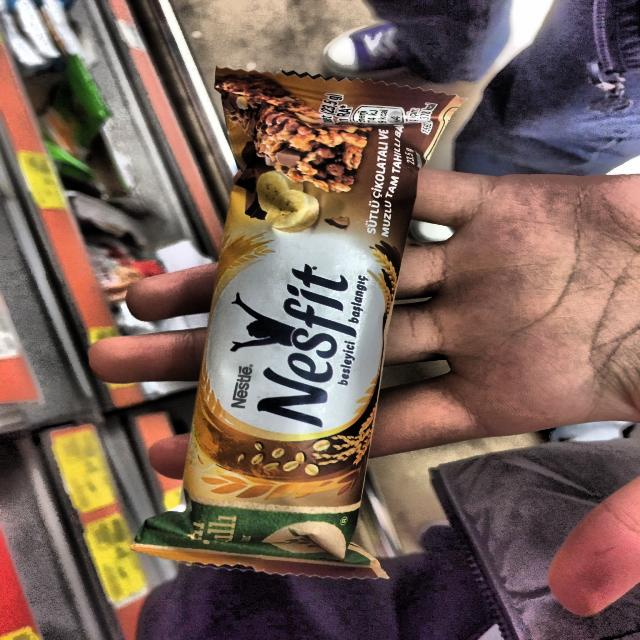Plastic: (132, 56, 484, 610)
